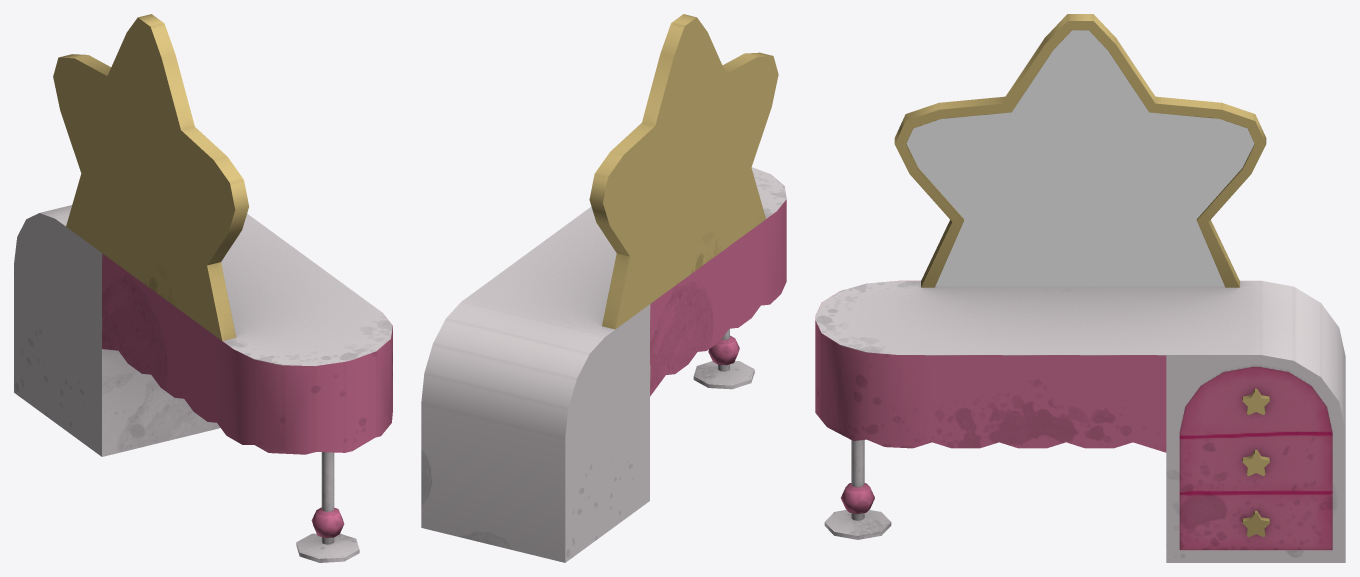
File: Prop_075_Makeuptable_001.fbx
The picture shows the model from 3 angles, left to right: view 1: azimuth 30°, elevation 25°; view 2: azimuth 150°, elevation 25°; view 3: azimuth 270°, elevation 25°; orthographic projection. The views are drawn at different scales.
Parts seen in each view (by area): view 1: Prop_075_Makeuptable_001; view 2: Prop_075_Makeuptable_001; view 3: Prop_075_Makeuptable_001.
Boxes of the visible parts, x1=… form: Prop_075_Makeuptable_001: x1=14, y1=14, x2=392, y2=562; Prop_075_Makeuptable_001: x1=421, y1=14, x2=786, y2=562; Prop_075_Makeuptable_001: x1=815, y1=14, x2=1345, y2=562.
Size of the model in its own units: 0.6252 by 1.81 by 1.84.
Materials: 2 (1 with a texture image).
